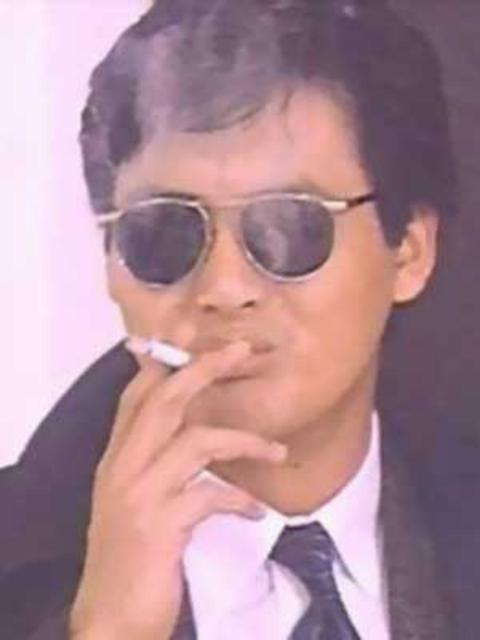Cigarette: (118, 334, 192, 374)
